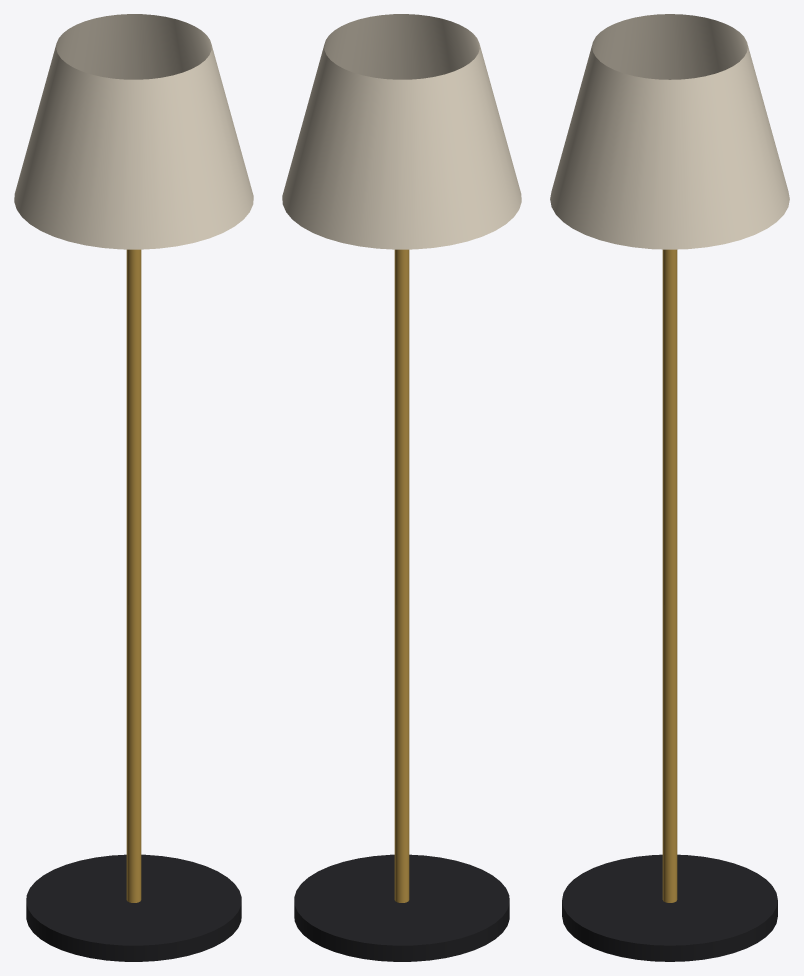
Rendered from floor-lamp.glb.
3 renders of one model, left to right at view 1: azimuth 30°, elevation 25°; view 2: azimuth 150°, elevation 25°; view 3: azimuth 270°, elevation 25°, orthographic.
Visible parts, largest first — view 1: Floor lamp; view 2: Floor lamp; view 3: Floor lamp.
Part boxes in pixels (x1=…): Floor lamp: x1=14, y1=14, x2=253, y2=961; Floor lamp: x1=282, y1=14, x2=521, y2=961; Floor lamp: x1=550, y1=14, x2=789, y2=961.
Size of the model in its own units: 0.4 by 1.6 by 0.4.
